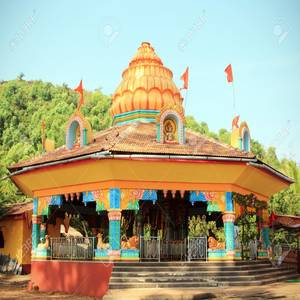Ajoba_Temple: (1, 30, 295, 292)
